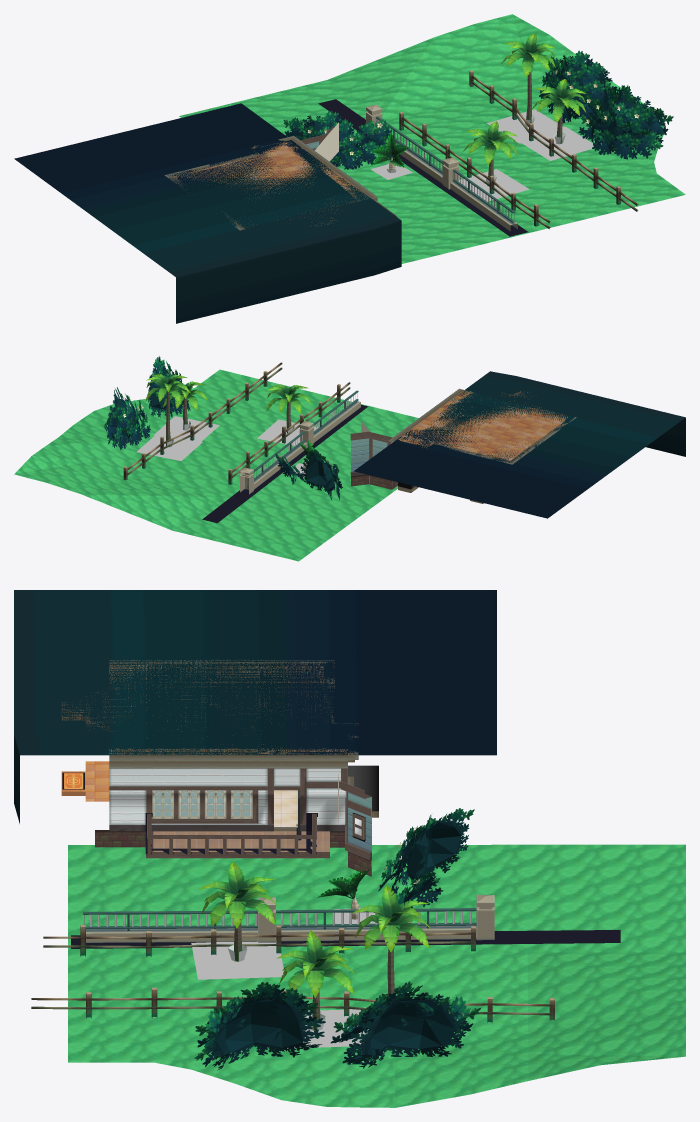
File: Model - Side Deck.dae
3 renders of one model, top to bottom at view 1: azimuth 30°, elevation 25°; view 2: azimuth 150°, elevation 25°; view 3: azimuth 270°, elevation 25°, orthographic. The views are drawn at different scales.
Parts seen in each view (by area): view 1: all_world_rmbg_OptMesh_8_0_node, beranda_ground_0_0_node, f0102r0101_cutout01_OptMesh_31_0_node, beranda_trees_3_0_node, f0102r0101_rp04_OptMesh_12_0_node, beranda_trees_1_0_node, all_world_rmsdw1_OptMesh_26_0_node, f0102r0101_obj01_OptMesh_11_0_node, f0102r0101_a01_OptMesh_13_0_node; view 2: beranda_ground_0_0_node, all_world_rmbg_OptMesh_8_0_node, f0102r0101_cutout01_OptMesh_31_0_node, f0102r0101_rp04_OptMesh_12_0_node, beranda_trees_3_0_node, beranda_trees_1_0_node, f0102r0101_obj019_OptMesh_30_0_node, all_world_rmsdw1_OptMesh_26_0_node, f0102r0101_obj01_OptMesh_11_0_node; view 3: beranda_ground_0_0_node, all_world_rmbg_OptMesh_8_0_node, f0102r0101_cutout01_OptMesh_31_0_node, f0102r0101_obj019_OptMesh_30_0_node, beranda_trees_3_0_node, f0102r0101_obj01_OptMesh_11_0_node, beranda_trees_1_0_node, all_world_rmsdw1_OptMesh_26_0_node, f0102r0101_rp04_OptMesh_12_0_node, f0102r0101_rp08_OptMesh_29_0_node, f0102r0101_a02_OptMesh_14_0_node, f0102r0101_rp05_OptMesh_23_0_node (+3 smaller).
Boxes of the visible parts, <box> form: all_world_rmbg_OptMesh_8_0_node: <box>14,103,401,323</box>; beranda_ground_0_0_node: <box>179,14,685,263</box>; f0102r0101_cutout01_OptMesh_31_0_node: <box>283,50,673,231</box>; beranda_trees_3_0_node: <box>463,33,586,177</box>; f0102r0101_rp04_OptMesh_12_0_node: <box>174,142,369,227</box>; beranda_trees_1_0_node: <box>459,109,593,201</box>; all_world_rmsdw1_OptMesh_26_0_node: <box>318,99,528,236</box>; f0102r0101_obj01_OptMesh_11_0_node: <box>164,136,377,230</box>; f0102r0101_a01_OptMesh_13_0_node: <box>314,122,338,161</box>; beranda_ground_0_0_node: <box>14,369,418,561</box>; all_world_rmbg_OptMesh_8_0_node: <box>354,371,685,518</box>; f0102r0101_cutout01_OptMesh_31_0_node: <box>103,356,360,500</box>; f0102r0101_rp04_OptMesh_12_0_node: <box>398,390,567,460</box>; beranda_trees_3_0_node: <box>145,374,311,446</box>; beranda_trees_1_0_node: <box>136,416,318,460</box>; f0102r0101_obj019_OptMesh_30_0_node: <box>350,431,397,489</box>; all_world_rmsdw1_OptMesh_26_0_node: <box>202,404,367,523</box>; f0102r0101_obj01_OptMesh_11_0_node: <box>388,388,576,503</box>; beranda_ground_0_0_node: <box>68,844,685,1107</box>; all_world_rmbg_OptMesh_8_0_node: <box>14,590,496,823</box>; f0102r0101_cutout01_OptMesh_31_0_node: <box>31,808,554,1070</box>; f0102r0101_obj019_OptMesh_30_0_node: <box>95,768,371,876</box>; beranda_trees_3_0_node: <box>199,861,431,1030</box>; f0102r0101_obj01_OptMesh_11_0_node: <box>109,659,378,831</box>; beranda_trees_1_0_node: <box>191,941,368,1048</box>; all_world_rmsdw1_OptMesh_26_0_node: <box>62,772,620,948</box>; f0102r0101_rp04_OptMesh_12_0_node: <box>61,664,347,755</box>; f0102r0101_rp08_OptMesh_29_0_node: <box>153,831,329,851</box>; f0102r0101_a02_OptMesh_14_0_node: <box>154,790,250,815</box>; f0102r0101_rp05_OptMesh_23_0_node: <box>61,761,109,801</box>.
Bounding box in the file's own units: 4256 × 650 × 2817.
